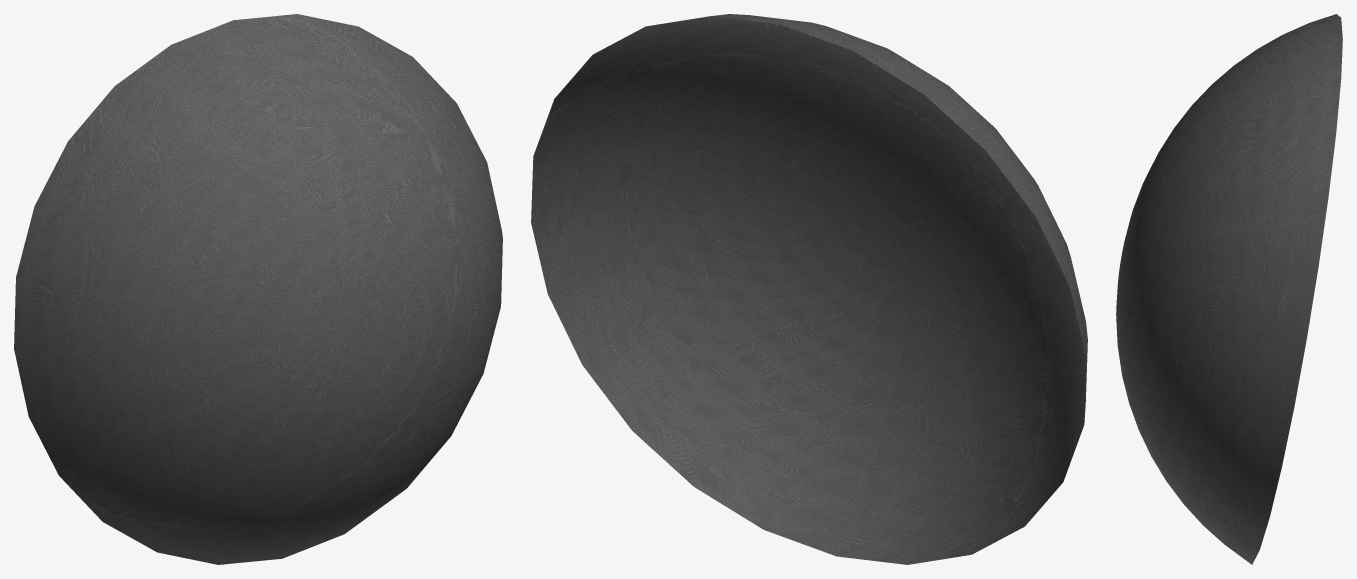
File: original-23.obj
The picture shows the model from 3 angles, left to right: view 1: azimuth 30°, elevation 25°; view 2: azimuth 150°, elevation 25°; view 3: azimuth 270°, elevation 25°; orthographic projection. The views are drawn at different scales.
Parts seen in each view (by area): view 1: 3dw.e450a063965ce182372d50f0ef237781/Model/mesh1/mesh1-geometry/; view 2: 3dw.e450a063965ce182372d50f0ef237781/Model/mesh1/mesh1-geometry/; view 3: 3dw.e450a063965ce182372d50f0ef237781/Model/mesh1/mesh1-geometry/.
Part boxes in pixels (x1,y1,x2,y2): 3dw.e450a063965ce182372d50f0ef237781/Model/mesh1/mesh1-geometry/: [14, 14, 502, 564]; 3dw.e450a063965ce182372d50f0ef237781/Model/mesh1/mesh1-geometry/: [531, 14, 1087, 564]; 3dw.e450a063965ce182372d50f0ef237781/Model/mesh1/mesh1-geometry/: [1116, 14, 1342, 564].
Size of the model in its own units: 0.0512 by 0.0504 by 0.0207.
